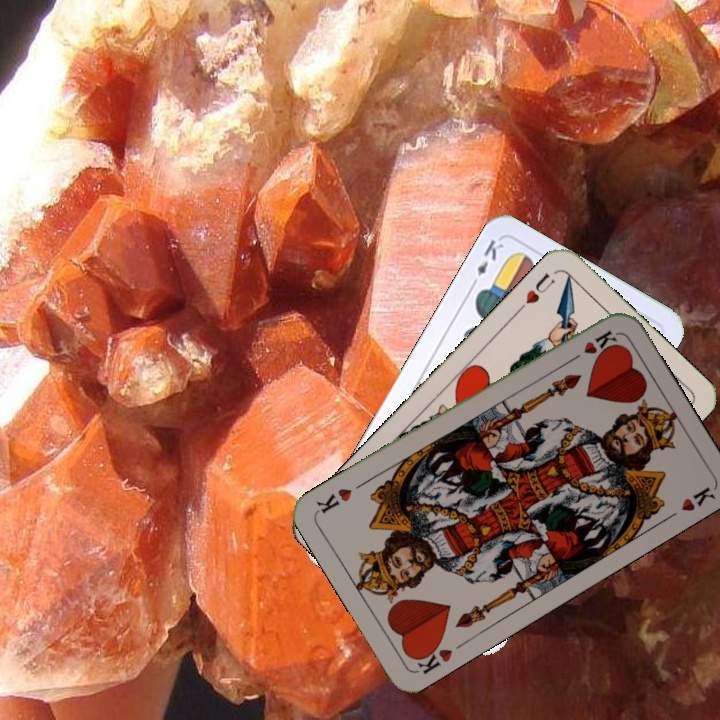EK: (466, 235, 506, 291)
HK: (564, 326, 620, 366), (408, 638, 455, 677)
HU: (513, 269, 558, 315)
